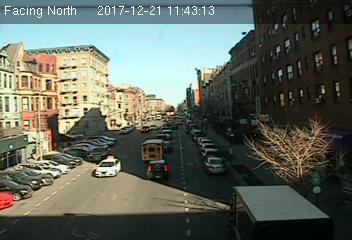car: (92, 156, 122, 177), (145, 160, 170, 181), (89, 146, 110, 162), (203, 157, 225, 172)
truck: (140, 138, 164, 163)
ups: (229, 185, 332, 240)
